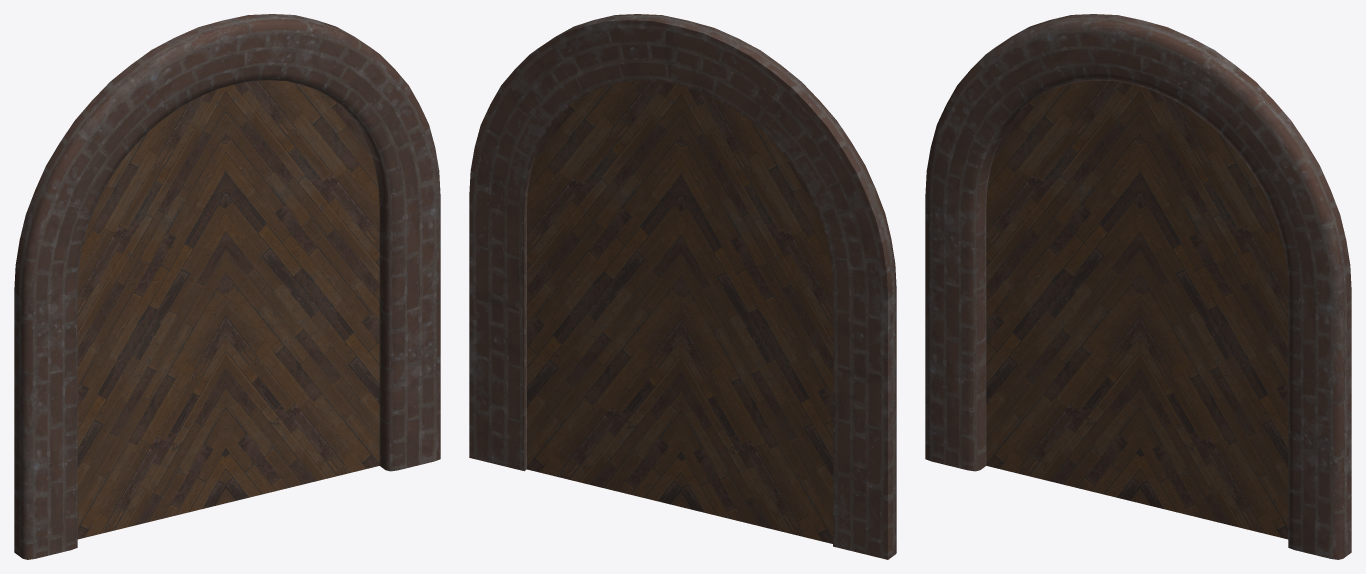
File: Kit_BricksArch.fbx
3 views of the same model, side by side, from view 1: azimuth 30°, elevation 25°; view 2: azimuth 150°, elevation 25°; view 3: azimuth 330°, elevation 25° (orthographic).
Visible parts, largest first — view 1: Kit_BricksArch; view 2: Kit_BricksArch; view 3: Kit_BricksArch.
Part boxes in pixels (<box>): Kit_BricksArch: <box>14,14,440,559</box>; Kit_BricksArch: <box>469,14,896,559</box>; Kit_BricksArch: <box>925,14,1351,559</box>.
Size of the model in its own units: 163 by 179 by 7.93.
